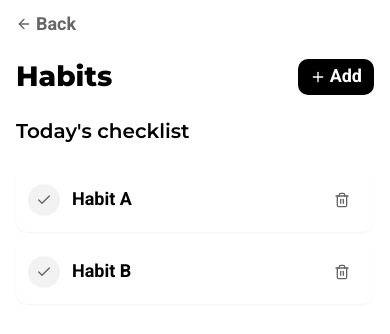
Test: HabitsPage per-habit in-flight guard › two different habits' overlapping saves both complete with no cross-interference
This screenshot has width=390, height=334.
Later steps or results of the test are not shown.
Click the button "Habit A".
click(44, 200)  # box [28,184,314,216]
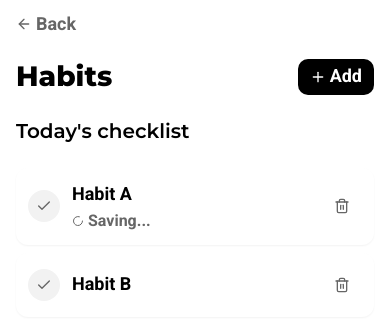
Now the button "Habit A Saving..." is disabled, box [28,180,314,233]
Click the button "Habit B".
click(44, 285)  # box [28,269,314,301]
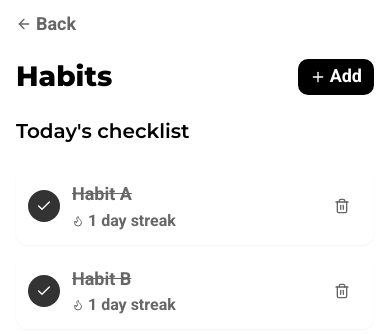
Expected: the button "Habit B 1 day streak" is enabled, [28,265,314,317]
Now the button "Habit A 1 day streak" is enabled, box [28,180,314,233]
